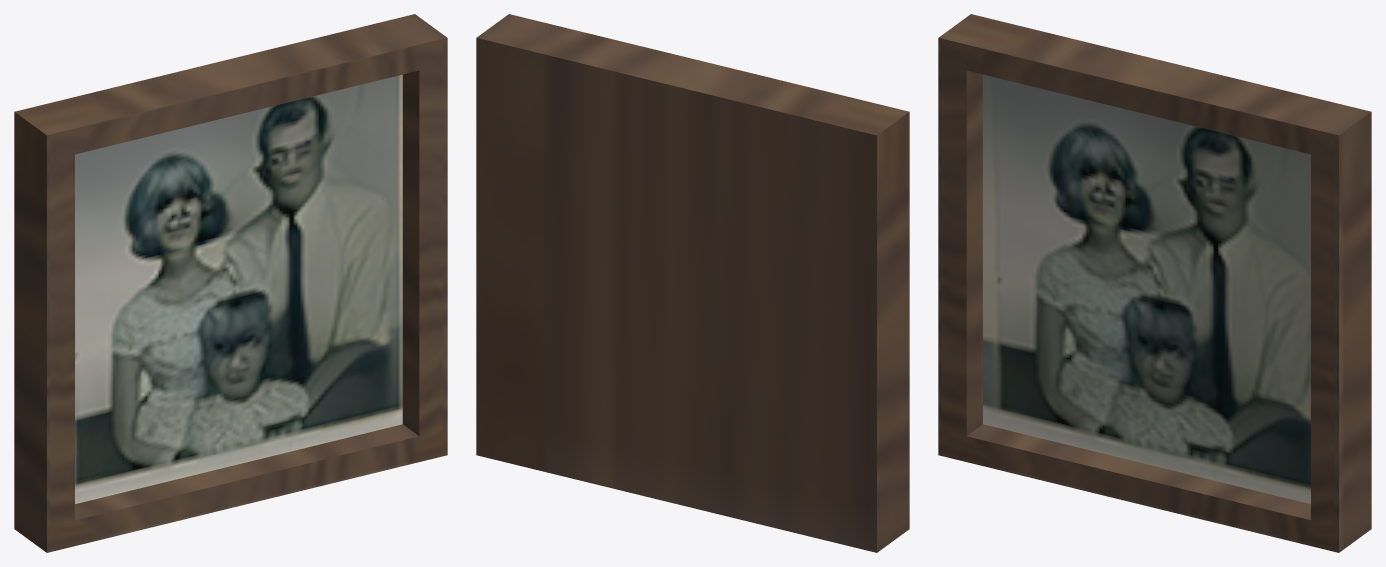
The model's file is Photos.fbx.
3 views of the same model, side by side, from view 1: azimuth 30°, elevation 25°; view 2: azimuth 150°, elevation 25°; view 3: azimuth 330°, elevation 25° (orthographic).
Visible parts, largest first — view 1: Cube; view 2: Cube; view 3: Cube.
Part boxes in pixels (x1,y1,x2,y2): Cube: (14,14,447,552); Cube: (476,14,909,552); Cube: (938,14,1371,552).
Size of the model in its own units: 378 by 377 by 53.18.
